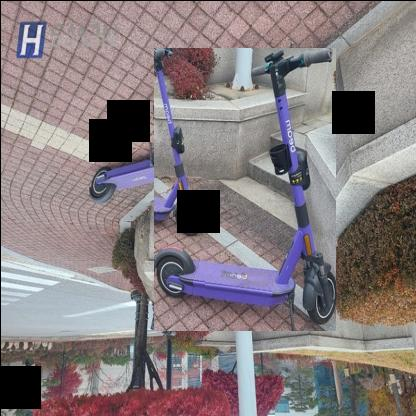kickboard: (154, 48, 335, 329), (88, 142, 204, 333)
